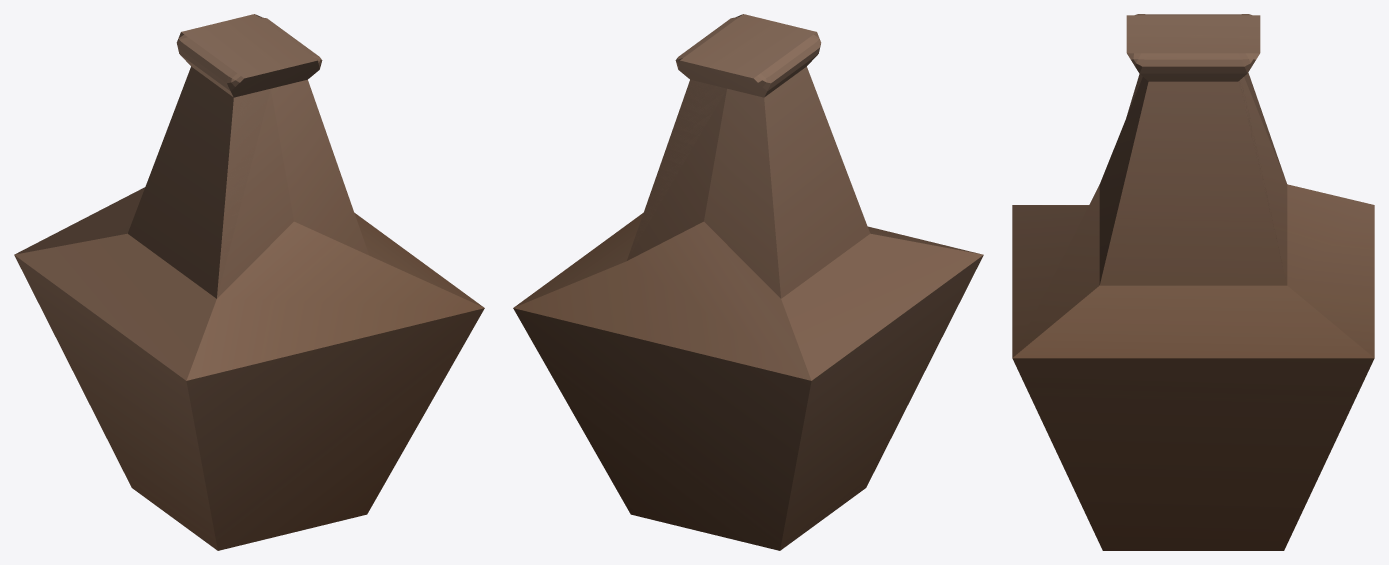
The model's file is ChestNew.fbx.
3 views of the same model, side by side, from view 1: azimuth 30°, elevation 25°; view 2: azimuth 150°, elevation 25°; view 3: azimuth 270°, elevation 25° (orthographic). The views are drawn at different scales.
Parts seen in each view (by area): view 1: Cube; view 2: Cube; view 3: Cube.
Boxes of the visible parts, <box> form: Cube: <box>14,14,484,550</box>; Cube: <box>513,14,983,550</box>; Cube: <box>1012,14,1374,550</box>.
Bounding box in the file's own units: 200 × 291 × 200.
